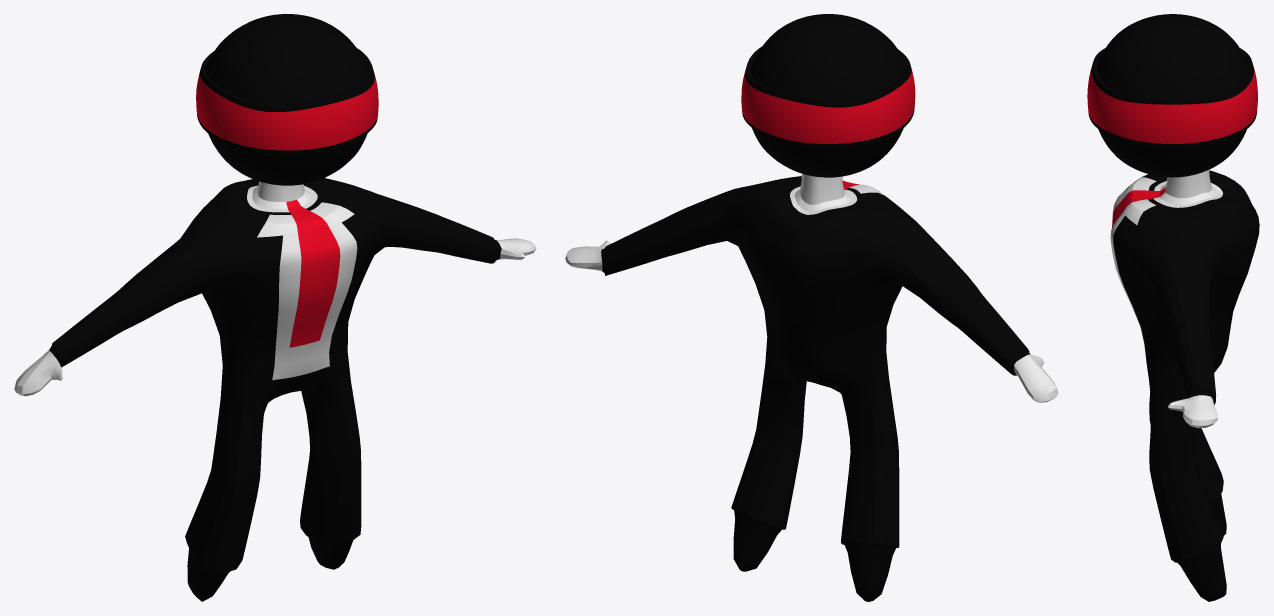
Rendered from Guardbase.fbx.
The picture shows the model from 3 angles, left to right: view 1: azimuth 30°, elevation 25°; view 2: azimuth 150°, elevation 25°; view 3: azimuth 270°, elevation 25°; orthographic projection. The views are drawn at different scales.
Parts seen in each view (by area): view 1: Cylinder; view 2: Cylinder; view 3: Cylinder.
Boxes of the visible parts, <box> form: Cylinder: <box>14,14,536,601</box>; Cylinder: <box>565,14,1058,601</box>; Cylinder: <box>1087,14,1259,601</box>.
Bounding box in the file's own units: 583 × 624 × 177.
